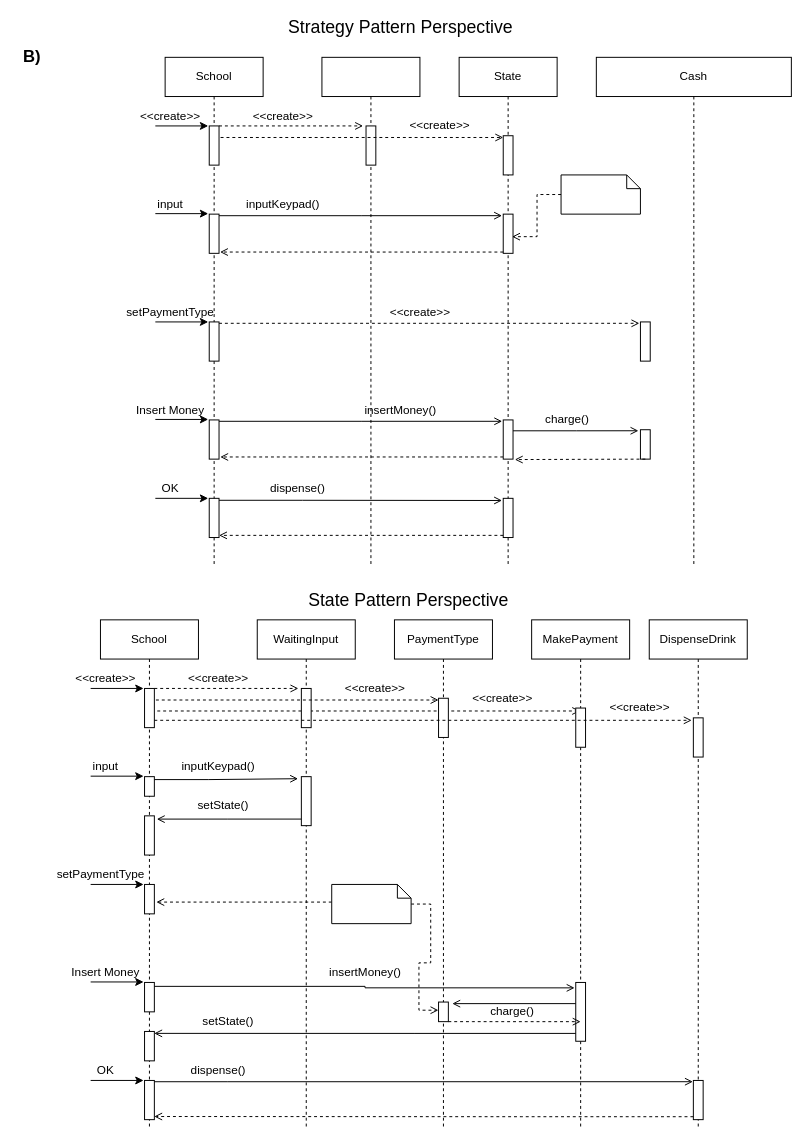
Image size: 809x1147. Some labels were removed from this diagram. Each missing label, with the box of its shape:
Cat Card: (321, 56, 420, 567)
doesn't see change in state: (560, 174, 640, 214)
doesn't see change in strategy: (331, 883, 411, 924)
